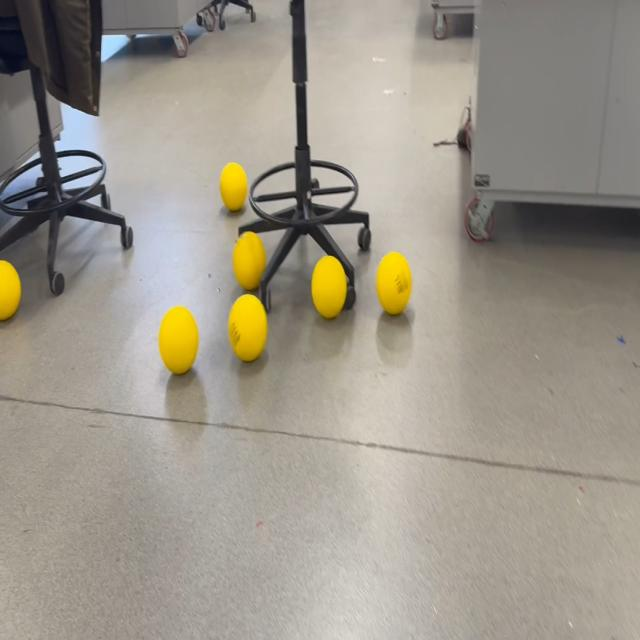Fuel: (158, 305, 199, 375), (228, 293, 268, 362), (311, 255, 347, 319), (376, 251, 412, 315), (233, 232, 267, 292), (220, 162, 248, 212), (0, 259, 21, 320)
